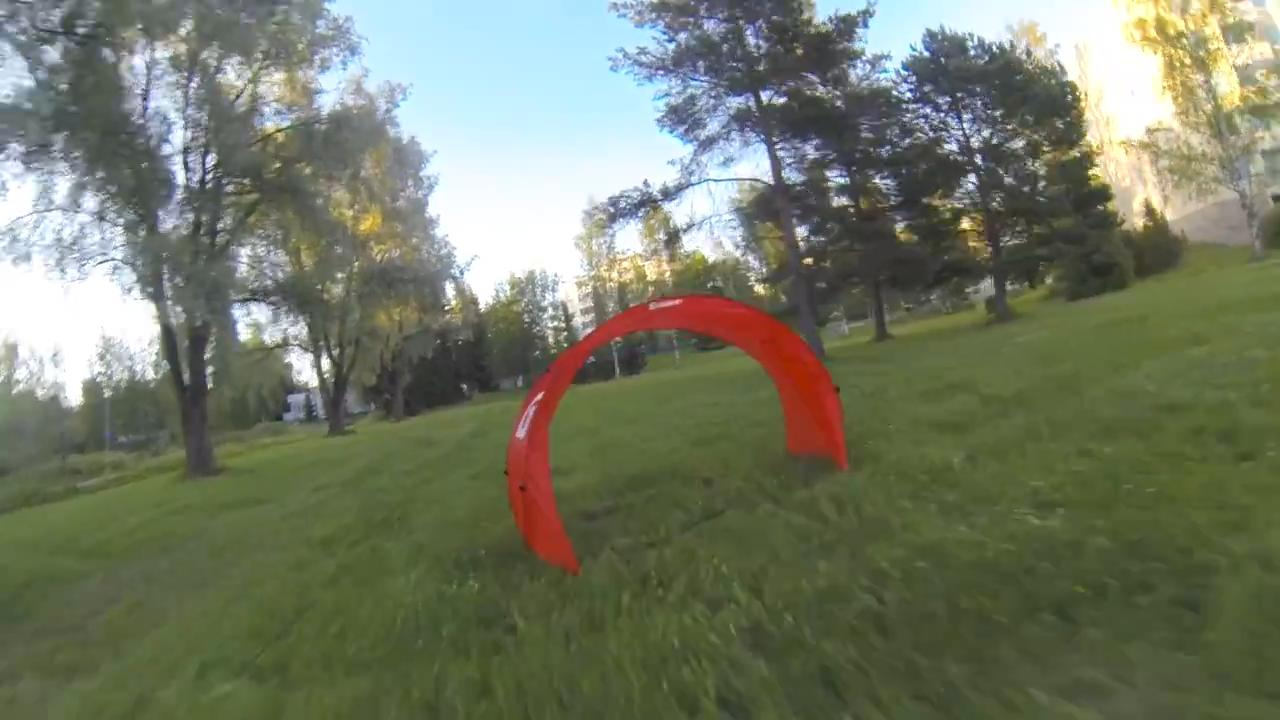gate: (497, 295, 852, 567)
